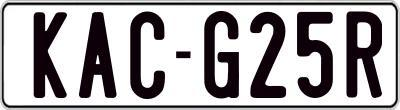2: (248, 9, 286, 97)
5: (296, 11, 336, 102)
A: (78, 12, 116, 99)
C: (128, 11, 166, 102)
G: (201, 8, 237, 98)
K: (34, 11, 73, 97)
R: (344, 9, 382, 99)
